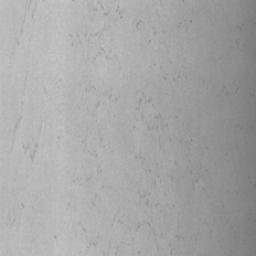Silk spot: (138, 192, 160, 207), (136, 97, 152, 110), (136, 219, 152, 232), (30, 144, 38, 162), (14, 116, 22, 132)
